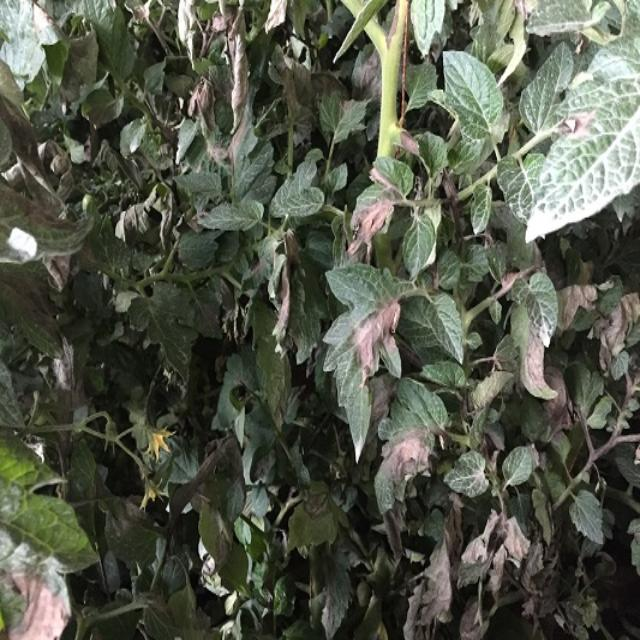Early_blight: (464, 503, 561, 640), (401, 508, 464, 640), (211, 12, 251, 170), (1, 554, 72, 640), (346, 293, 399, 391), (587, 287, 640, 376), (342, 191, 394, 266), (377, 421, 436, 487), (186, 78, 229, 166), (537, 367, 582, 443), (265, 253, 301, 342), (556, 279, 597, 332), (351, 48, 386, 106), (523, 323, 550, 392), (557, 105, 595, 142)
